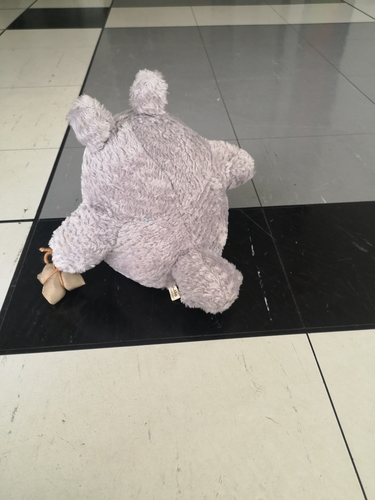totoro: (35, 66, 259, 316)
